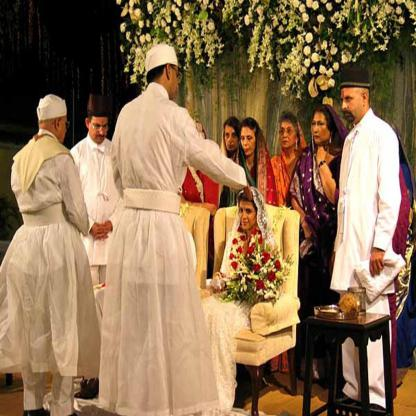face: (342, 86, 364, 120), (314, 113, 331, 145), (239, 202, 257, 231), (90, 115, 108, 143), (167, 57, 179, 94), (280, 122, 297, 148), (241, 130, 257, 156), (56, 111, 68, 144), (226, 127, 240, 151)
